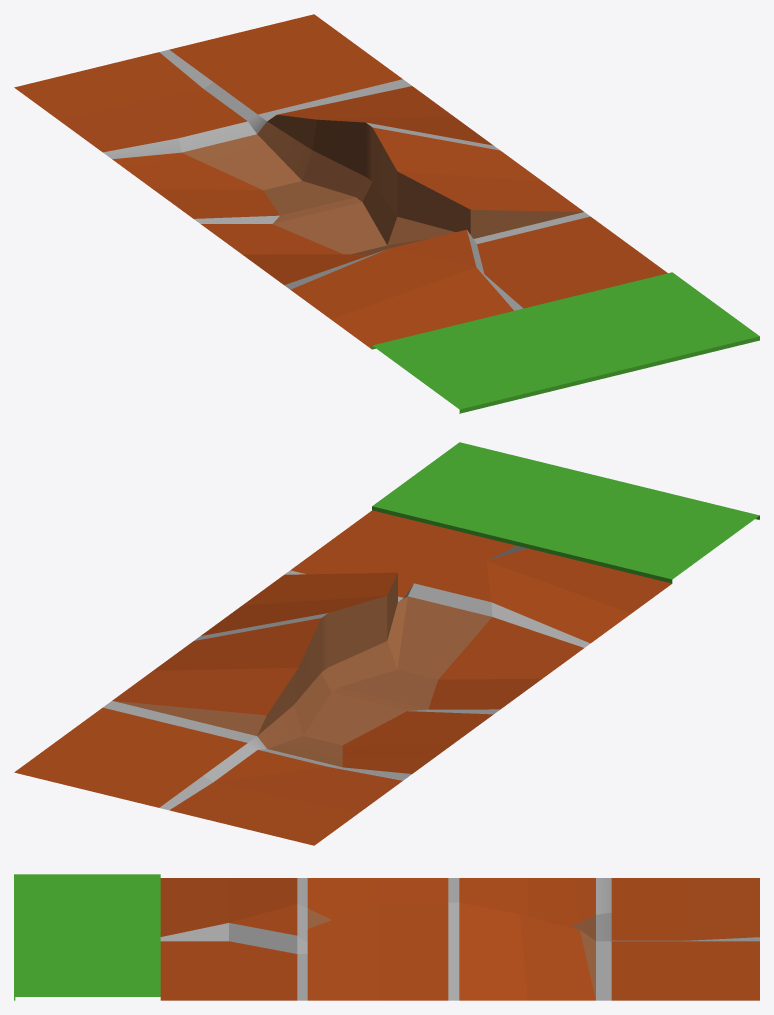
Rendered from ground_bg_broken_02.fbx.
The picture shows the model from 3 angles, top to bottom: view 1: azimuth 30°, elevation 25°; view 2: azimuth 150°, elevation 25°; view 3: azimuth 270°, elevation 25°; orthographic projection. The views are drawn at different scales.
Parts seen in each view (by area): view 1: ground_bg_broken_02; view 2: ground_bg_broken_02; view 3: ground_bg_broken_02.
Part boxes in pixels (x1=…): ground_bg_broken_02: x1=14, y1=14, x2=759, y2=413; ground_bg_broken_02: x1=14, y1=442, x2=759, y2=845; ground_bg_broken_02: x1=14, y1=874, x2=759, y2=1000.
Bounding box in the file's own units: 595 × 156 × 1531.
